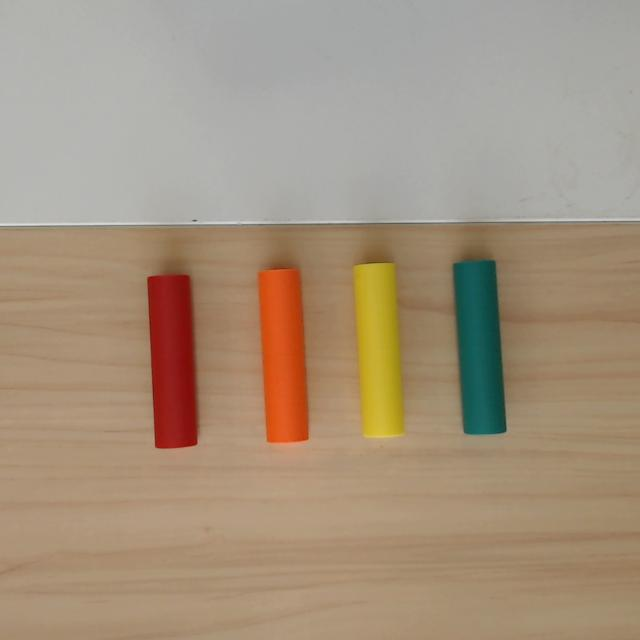Silinder-Hijau-10025: (452, 259, 507, 436)
Silinder-Jingga-10025: (257, 267, 310, 443)
Silinder-Kuning-10025: (352, 262, 405, 437)
Silinder-Merah-10025: (146, 274, 199, 448)
